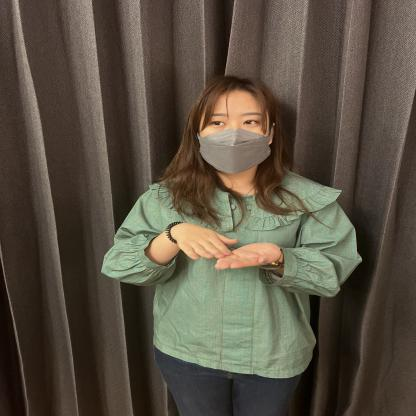Love: (96, 167, 366, 332)
